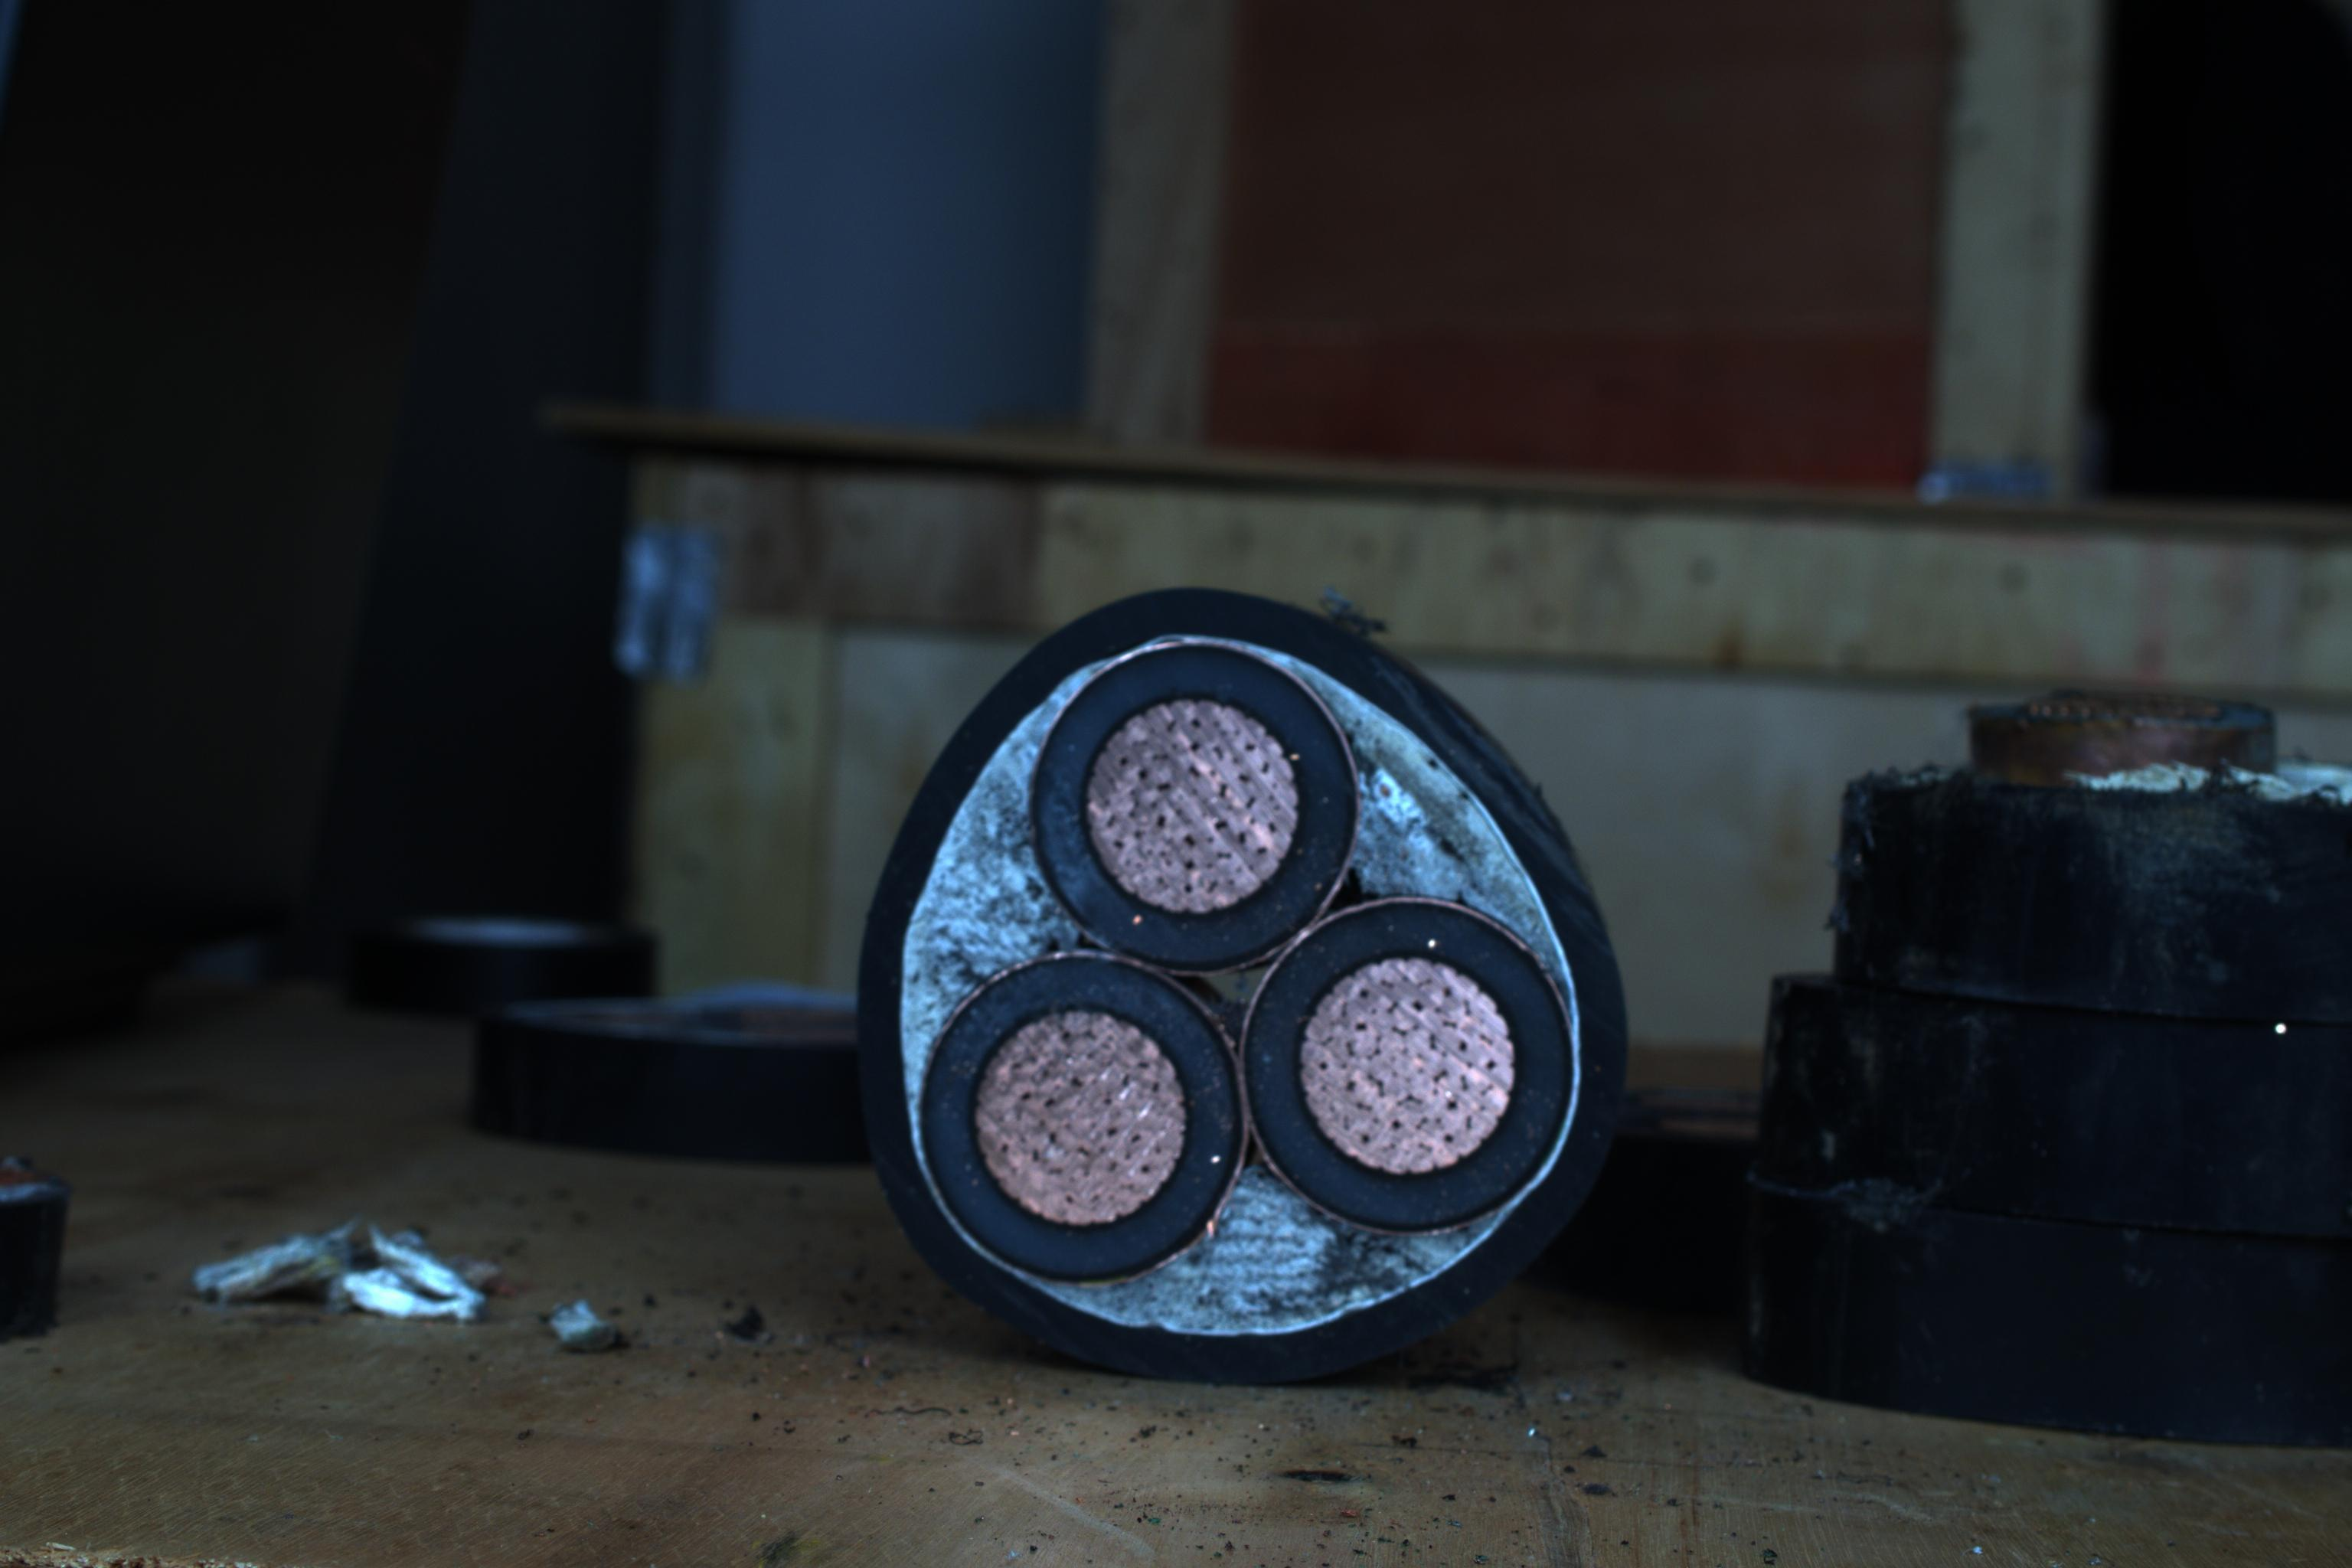ZA_YJV_8.7_10kV_3x400: (859, 577, 1599, 1349)
